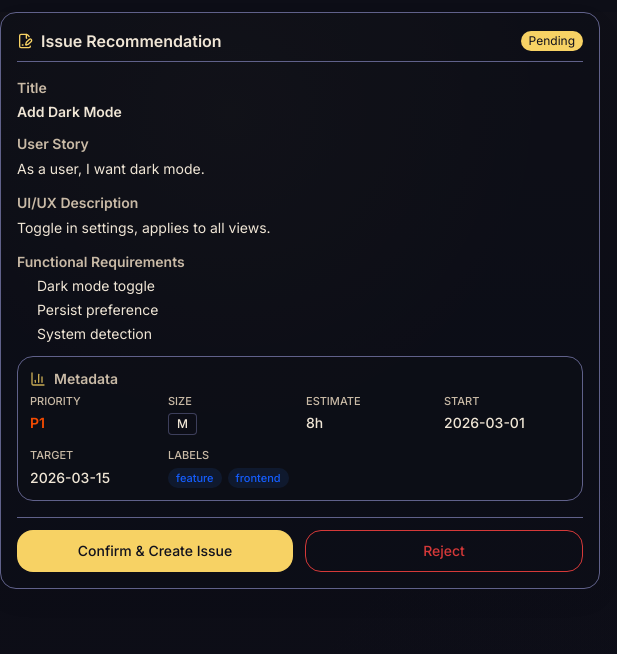
IssueRecommendationPreview › shows error on failed confirm
This screenshot has width=617, height=654.
Click the button "Confirm & Create Issue": click(155, 551) [17, 530, 293, 572]
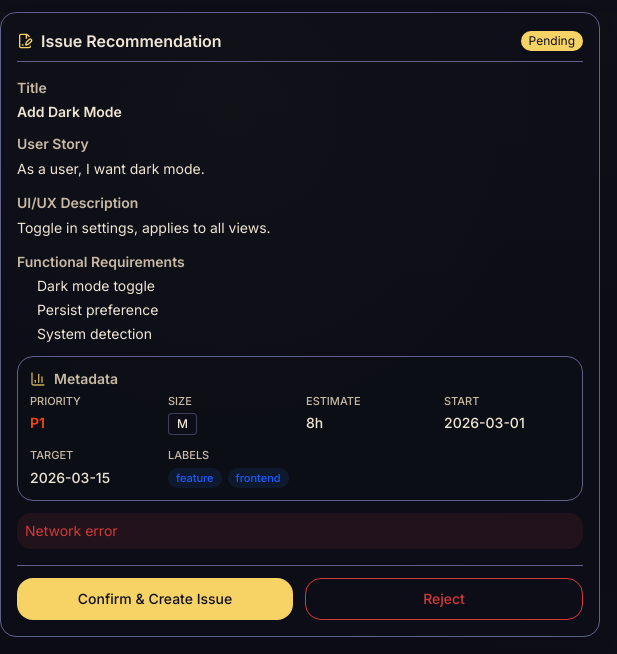
Expected: the text "Network error" is shown, [17, 513, 583, 549]
